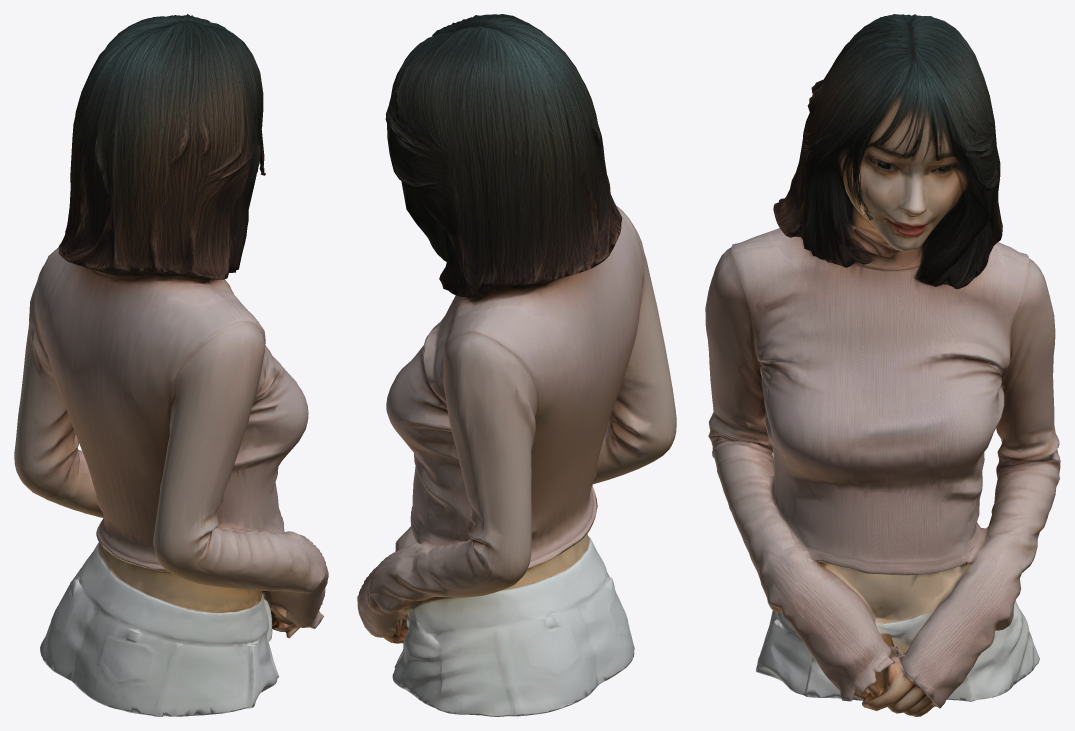
3 renders of one model, left to right at view 1: azimuth 30°, elevation 25°; view 2: azimuth 150°, elevation 25°; view 3: azimuth 270°, elevation 25°, orthographic. The views are drawn at different scales.
Parts seen in each view (by area): view 1: tripo_node_3a0356af-0de0-48e9-bd1e-e6cfd15d8f69; view 2: tripo_node_3a0356af-0de0-48e9-bd1e-e6cfd15d8f69; view 3: tripo_node_3a0356af-0de0-48e9-bd1e-e6cfd15d8f69.
Boxes of the visible parts, <box> form: tripo_node_3a0356af-0de0-48e9-bd1e-e6cfd15d8f69: <box>14,14,328,716</box>; tripo_node_3a0356af-0de0-48e9-bd1e-e6cfd15d8f69: <box>357,14,676,716</box>; tripo_node_3a0356af-0de0-48e9-bd1e-e6cfd15d8f69: <box>705,14,1060,716</box>.
Bounding box in the file's own units: 0.3908 × 0.9992 × 0.4977.
1 material, 1 textured.
